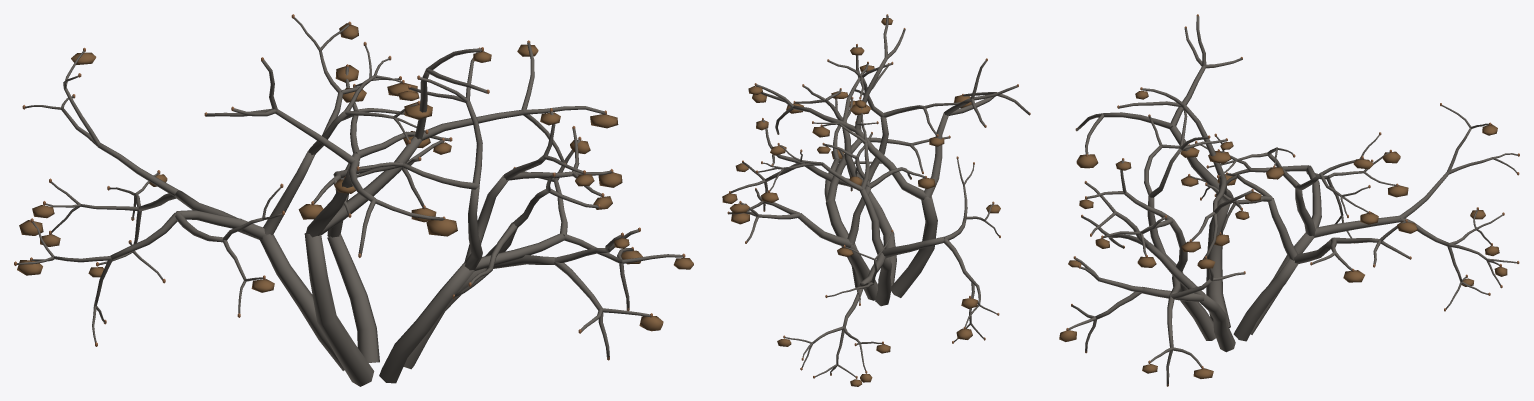
Rendered from scrub_oak_4.glb.
3 renders of one model, left to right at view 1: azimuth 30°, elevation 25°; view 2: azimuth 150°, elevation 25°; view 3: azimuth 270°, elevation 25°, orthographic. The views are drawn at different scales.
Parts seen in each view (by area): view 1: ScrubOak_LimbWood_2, ScrubOak_LimbWood_3, ScrubOak_LimbWood_4, ScrubOak_LimbWood_1, ScrubOak_LimbWood_0; view 2: ScrubOak_LimbWood_2, ScrubOak_LimbWood_3, ScrubOak_LimbWood_4, ScrubOak_LimbWood_1, ScrubOak_LimbWood_0; view 3: ScrubOak_LimbWood_2, ScrubOak_LimbWood_3, ScrubOak_LimbWood_4, ScrubOak_LimbWood_1, ScrubOak_LimbWood_0.
Boxes of the visible parts, left/top/right/bottom form: ScrubOak_LimbWood_2: left=16, top=17, right=425, bottom=370; ScrubOak_LimbWood_3: left=206, top=42, right=605, bottom=386; ScrubOak_LimbWood_4: left=356, top=51, right=683, bottom=383; ScrubOak_LimbWood_1: left=313, top=66, right=450, bottom=362; ScrubOak_LimbWood_0: left=403, top=174, right=651, bottom=369; ScrubOak_LimbWood_2: left=757, top=107, right=999, bottom=377; ScrubOak_LimbWood_3: left=756, top=15, right=1029, bottom=297; ScrubOak_LimbWood_4: left=730, top=46, right=960, bottom=285; ScrubOak_LimbWood_1: left=728, top=133, right=925, bottom=300; ScrubOak_LimbWood_0: left=824, top=66, right=949, bottom=287; ScrubOak_LimbWood_2: left=1190, top=105, right=1518, bottom=334; ScrubOak_LimbWood_3: left=1076, top=16, right=1252, bottom=327; ScrubOak_LimbWood_4: left=1086, top=109, right=1244, bottom=385; ScrubOak_LimbWood_1: left=1206, top=173, right=1410, bottom=341; ScrubOak_LimbWood_0: left=1068, top=182, right=1235, bottom=352.
Size of what is drawn, in the model's own units: 4.27 by 2.81 by 4.24.
